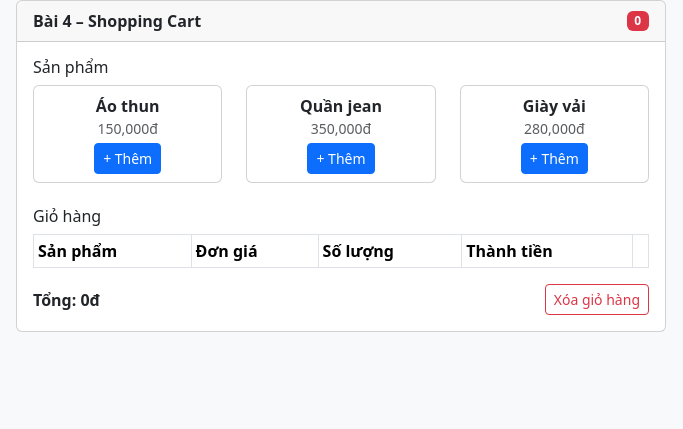
it: Bài 4 – Shopping Cart › ✅ Task 9 – CLEAR_CART › xóa toàn bộ giỏ hàng
Click the button with test id "btn-add-1".
click(128, 159)  # box [94, 143, 161, 174]
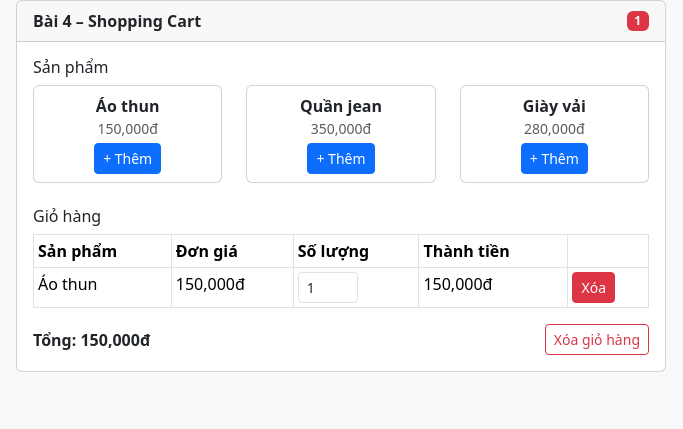
Click the button with test id "btn-add-2".
click(341, 159)  # box [308, 143, 375, 174]
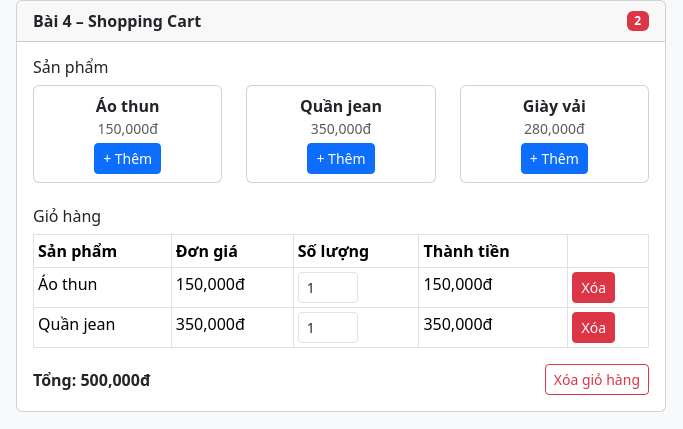
Click the button with test id "btn-clear-cart".
click(597, 380)  # box [545, 364, 649, 395]
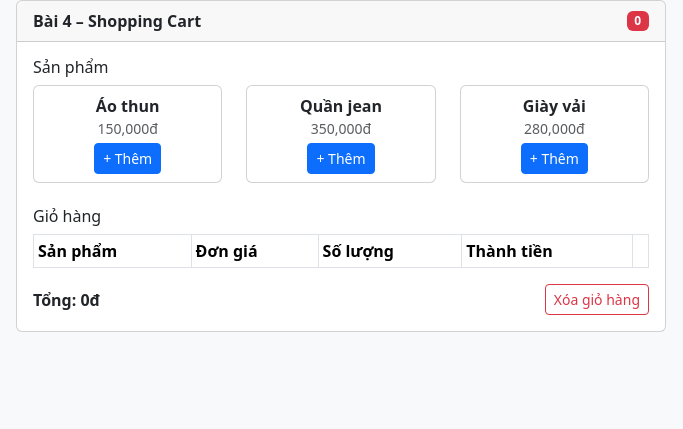
Expected: the text with test id "item-count" reads "0", [634, 12, 641, 29]
